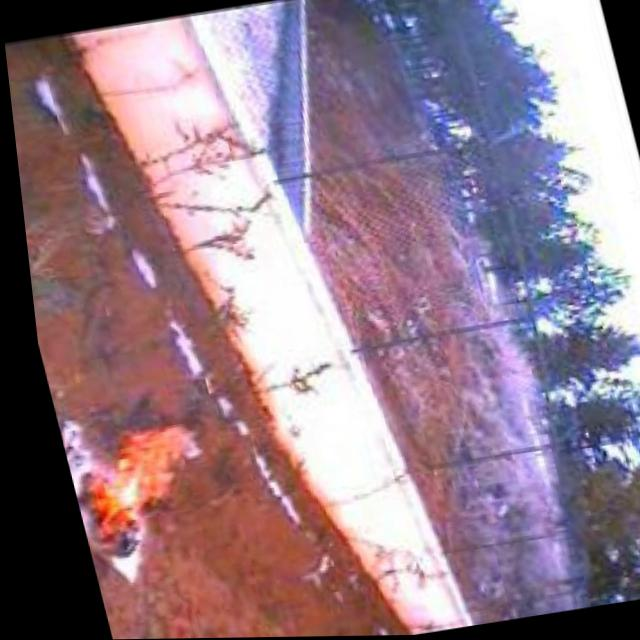Fire: (51, 419, 219, 560)
